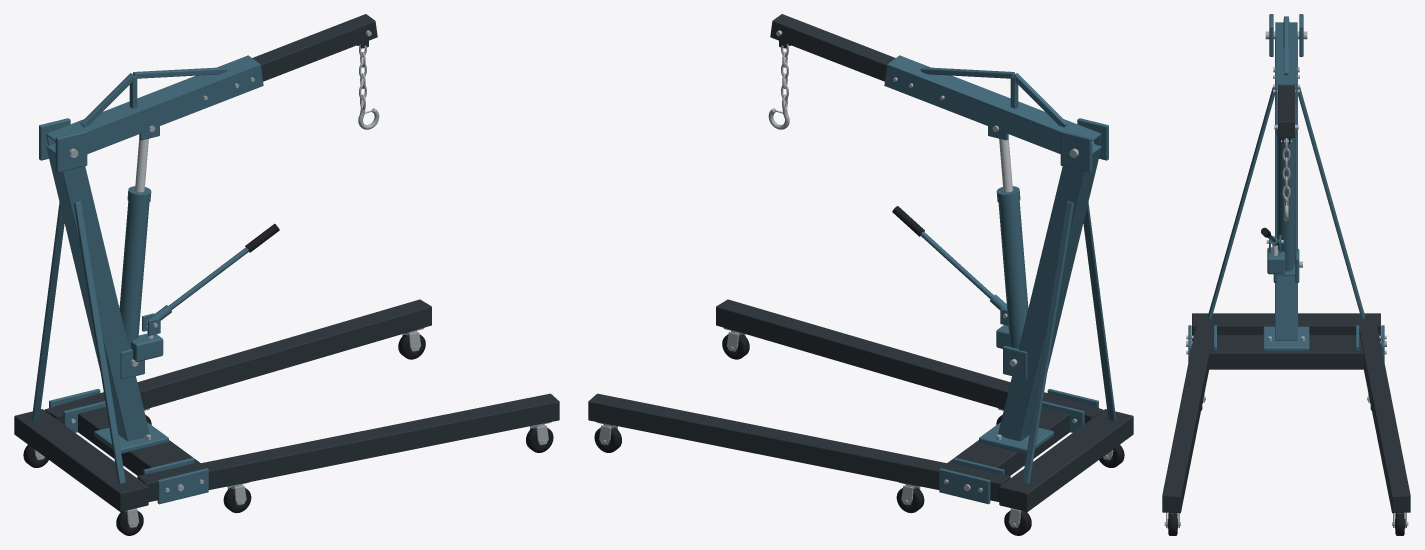
3 views of the same model, side by side, from view 1: azimuth 30°, elevation 25°; view 2: azimuth 150°, elevation 25°; view 3: azimuth 270°, elevation 25° (orthographic). The views are drawn at different scales.
Parts seen in each view (by area): view 1: Long forward box leg -1, Long forward box leg 1, Inclined single mast, Outer hollow boom sleeve, Rear transverse base, Nested boom extension, Main hydraulic cylinder, Narrow rear mast brace -1, Mast base bridge, Narrow rear mast brace 1, Leg folding cheek (-1, -1), Upper boom pivot cheek -1 (+3 smaller); view 2: Long forward box leg 1, Long forward box leg -1, Inclined single mast, Outer hollow boom sleeve, Rear transverse base, Nested boom extension, Main hydraulic cylinder, Narrow rear mast brace 1, Mast base bridge, Narrow rear mast brace -1, Leg folding cheek (1, 1), Upper boom pivot cheek 1 (+3 smaller); view 3: Mast base bridge, Long forward box leg -1, Long forward box leg 1, Rear transverse base, Inclined single mast, Main hydraulic cylinder, Outer hollow boom sleeve, Narrow rear mast brace -1, Narrow rear mast brace 1, Nested boom extension, Mast bolted foot plate, Pump lower casting.
Boxes of the visible parts, <box> form: Long forward box leg -1: <box>137,393,559,501</box>; Long forward box leg 1: <box>44,299,431,423</box>; Inclined single mast: <box>46,143,149,441</box>; Outer hollow boom sleeve: <box>46,55,263,154</box>; Rear transverse base: <box>14,409,148,511</box>; Nested boom extension: <box>252,14,377,81</box>; Main hydraulic cylinder: <box>119,201,149,348</box>; Narrow rear mast brace -1: <box>74,201,125,484</box>; Mast base bridge: <box>78,407,200,475</box>; Narrow rear mast brace 1: <box>31,202,64,420</box>; Leg folding cheek (-1, -1): <box>157,468,208,504</box>; Upper boom pivot cheek -1: <box>55,130,87,172</box>; Long forward box leg 1: <box>588,393,1010,501</box>; Long forward box leg -1: <box>716,299,1103,423</box>; Inclined single mast: <box>998,143,1101,441</box>; Outer hollow boom sleeve: <box>884,55,1101,153</box>; Rear transverse base: <box>999,409,1133,511</box>; Nested boom extension: <box>770,14,895,81</box>; Main hydraulic cylinder: <box>998,201,1028,348</box>; Narrow rear mast brace 1: <box>1022,201,1073,484</box>; Mast base bridge: <box>947,407,1069,475</box>; Narrow rear mast brace -1: <box>1083,202,1116,420</box>; Leg folding cheek (1, 1): <box>939,468,990,504</box>; Upper boom pivot cheek 1: <box>1060,130,1092,172</box>; Mast base bridge: <box>1209,335,1363,369</box>; Long forward box leg -1: <box>1162,324,1213,513</box>; Long forward box leg 1: <box>1359,324,1410,513</box>; Rear transverse base: <box>1192,313,1380,340</box>; Inclined single mast: <box>1275,37,1297,340</box>; Main hydraulic cylinder: <box>1277,136,1295,263</box>; Outer hollow boom sleeve: <box>1275,22,1297,104</box>; Narrow rear mast brace -1: <box>1207,87,1274,319</box>; Narrow rear mast brace 1: <box>1298,87,1365,319</box>; Nested boom extension: <box>1278,85,1294,137</box>; Mast bolted foot plate: <box>1263,326,1309,351</box>; Pump lower casting: <box>1267,247,1284,274</box>.
Bounding box in the file's own units: 1.69 × 1.51 × 0.9193.
